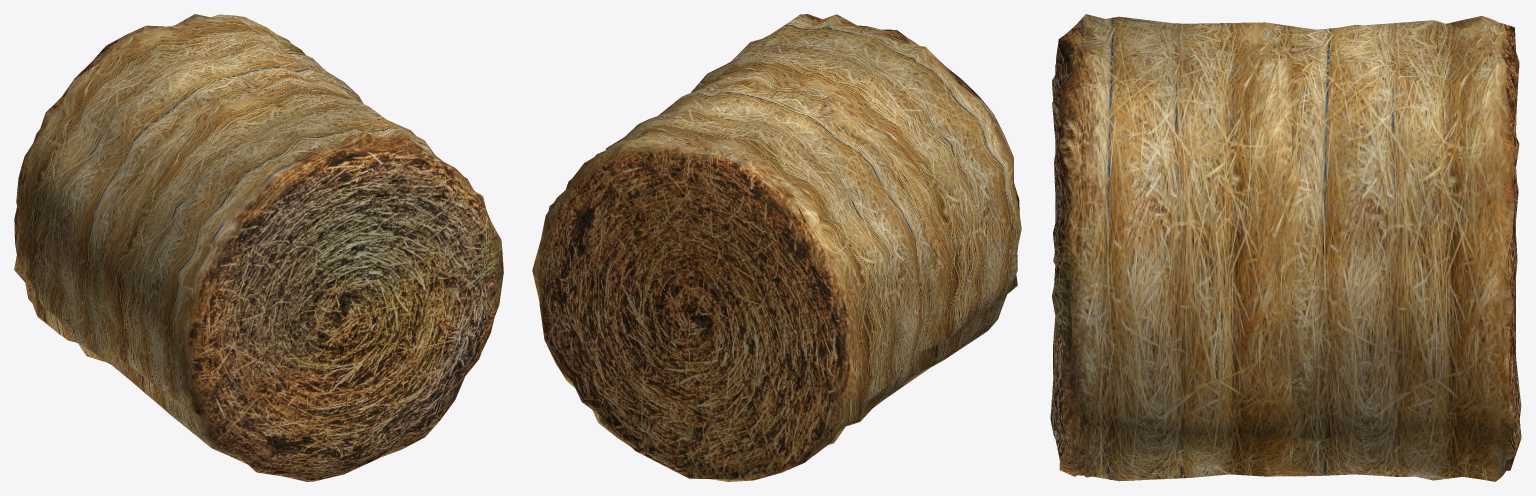
File: BalotPaie.fbx
The picture shows the model from 3 angles, left to right: view 1: azimuth 30°, elevation 25°; view 2: azimuth 150°, elevation 25°; view 3: azimuth 270°, elevation 25°; orthographic projection. The views are drawn at different scales.
Visible parts, largest first — view 1: SM_Hay; view 2: SM_Hay; view 3: SM_Hay.
Boxes of the visible parts, x1,y1,x2,y2 form: SM_Hay: [14, 14, 503, 481]; SM_Hay: [532, 14, 1021, 481]; SM_Hay: [1050, 14, 1521, 481].
Bounding box in the file's own units: 177 × 178 × 174.
1 material, 1 textured.
